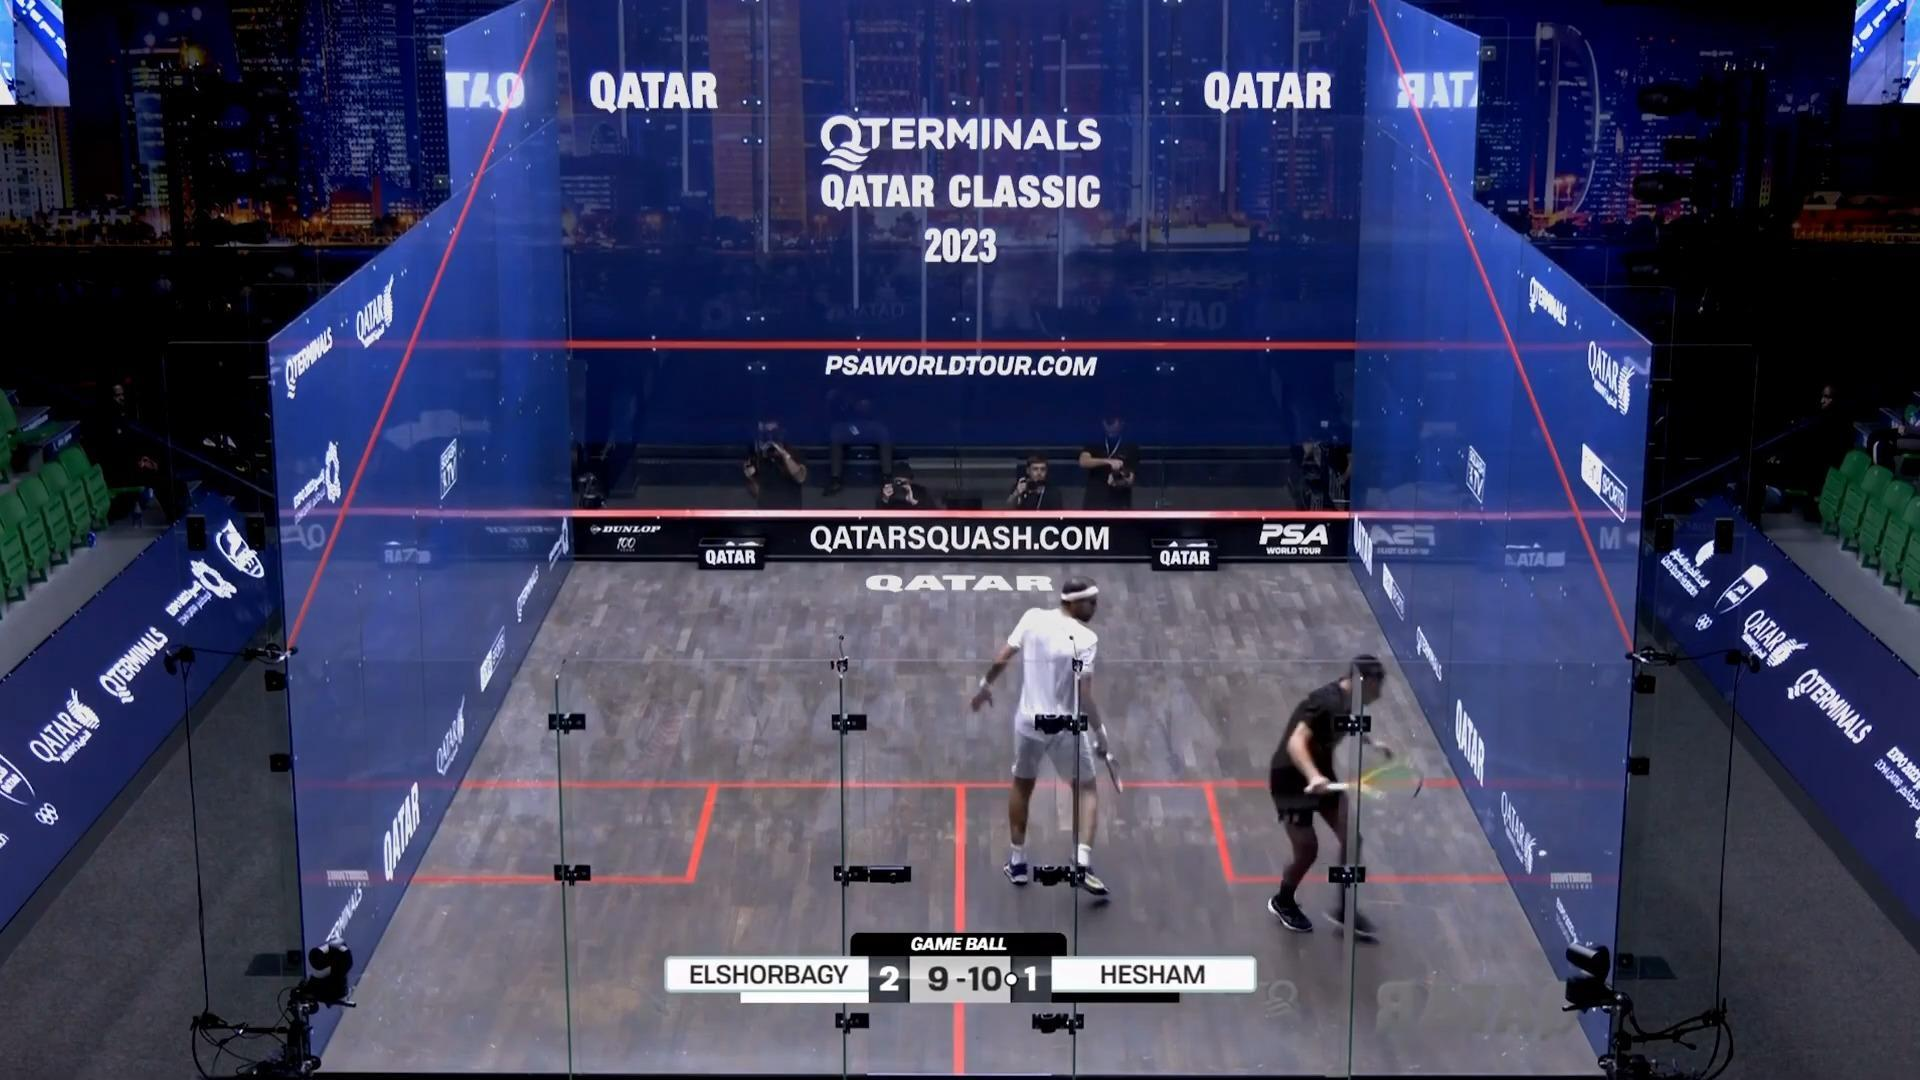Squash-Ball: (1534, 841, 1552, 864)
